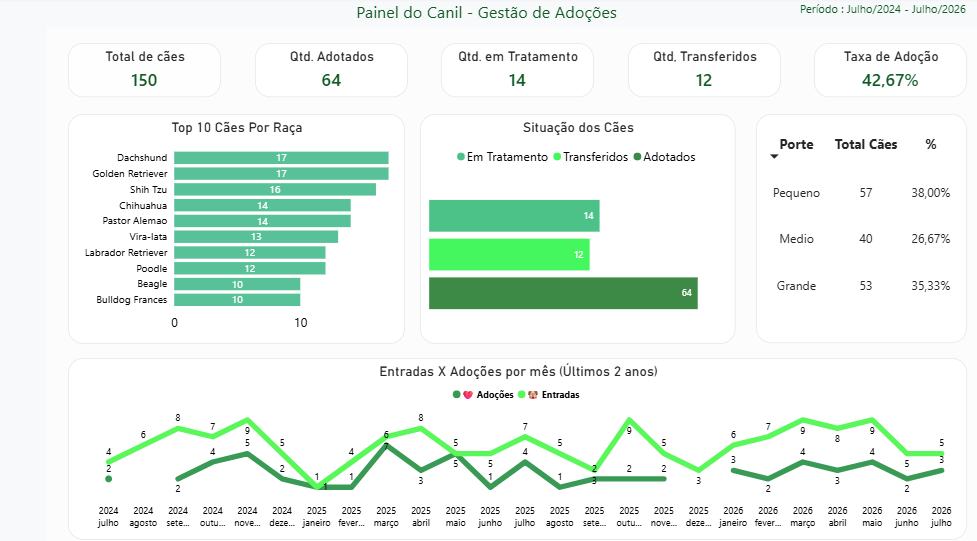

The dashboard page shown, as its layout file describes it:
{"tool":"powerbi","page":{"name":"Página 1","canvas":[1280,720],"ordinal":0},"visuals":[{"type":"cardVisual","title":"Total de cães","fields":{"Data":["CountNonNull(Caes.Nome)"]},"box":[89,60.2,200,70.7],"z":0},{"type":"cardVisual","title":"Qtd. Adotados","fields":{"Data":["Caes.Qtd Adotados"]},"box":[333.2,60.2,200,70.7],"z":1000},{"type":"cardVisual","title":"Qtd. em Tratamento","fields":{"Data":["Caes.Qtd Em Tratamento"]},"box":[577.3,60.2,200,70.7],"z":2000},{"type":"cardVisual","title":"Qtd, Transferidos","fields":{"Data":["Caes.Qtd Transferidos"]},"box":[821.5,60.2,200,70.7],"z":3000},{"type":"cardVisual","title":"Taxa de Adoção","fields":{"Data":["Caes.Taxa de Adoção"]},"box":[1065.6,60.2,200.3,70.7],"z":4000},{"type":"textbox","box":[0,0,1280,39.9],"z":5000},{"type":"shape","box":[0,39.9,60.6,679.9],"z":6000},{"type":"barChart","title":"Top 10 Cães Por Raça","fields":{"Category":["Racas.Raca"],"Y":["CountNonNull(Caes.Nome)"]},"box":[89.3,152.6,440.6,301],"z":7000},{"type":"clusteredBarChart","title":"Situação dos Cães","fields":{"Y":["_Medidas.Qtd Em Tratamento","_Medidas.Qtd Transferidos","_Medidas.Qtd Adotados"]},"box":[550.1,152.6,413.3,301],"z":8000},{"type":"lineChart","title":"Entradas X Adoções por mês (Últimos 2 anos)","fields":{"Category":["Caes.DataEntradaCanil.Variation.Hierarquia de datas.Ano","Caes.DataEntradaCanil.Variation.Hierarquia de datas.Mês","Caes.DataEntradaCanil.Variation.Hierarquia de datas.Dia"],"Y":["Caes.Qtd Adotados","CountNonNull(Caes.DataEntradaCanil)"]},"box":[89,472.6,1176.9,238.3],"z":9000},{"type":"tableEx","fields":{"Values":["Racas.Porte","Caes.Total Cães","Divide(Caes.Total Cães, ScopedEval(Caes.Total Cães, []))"]},"box":[989.7,153.2,276.2,299.8],"z":10000},{"type":"textbox","box":[976.3,0,303.8,40.3],"z":12000}]}

Visuals, with their boxes in screenshot pixels (x1, y1, x2, y2), scaled from the page's 1280x720 canvas onto the 977x541 screenshot:
"Total de cães" cardVisual: x1=68, y1=45, x2=221, y2=98
"Qtd. Adotados" cardVisual: x1=254, y1=45, x2=407, y2=98
"Qtd. em Tratamento" cardVisual: x1=441, y1=45, x2=593, y2=98
"Qtd, Transferidos" cardVisual: x1=627, y1=45, x2=780, y2=98
"Taxa de Adoção" cardVisual: x1=813, y1=45, x2=966, y2=98
textbox: x1=0, y1=0, x2=976, y2=30
shape: x1=0, y1=30, x2=46, y2=540
"Top 10 Cães Por Raça" barChart: x1=68, y1=115, x2=404, y2=341
"Situação dos Cães" clusteredBarChart: x1=420, y1=115, x2=735, y2=341
"Entradas X Adoções por mês (Últimos 2 anos)" lineChart: x1=68, y1=355, x2=966, y2=534
tableEx - Racas.Porte x Caes.Total Cães: x1=755, y1=115, x2=966, y2=340
textbox: x1=745, y1=0, x2=976, y2=30
